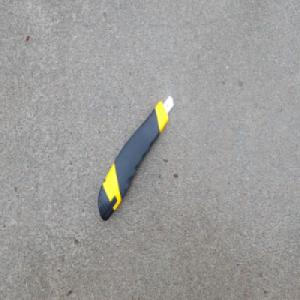Cutter: (96, 93, 174, 223)
